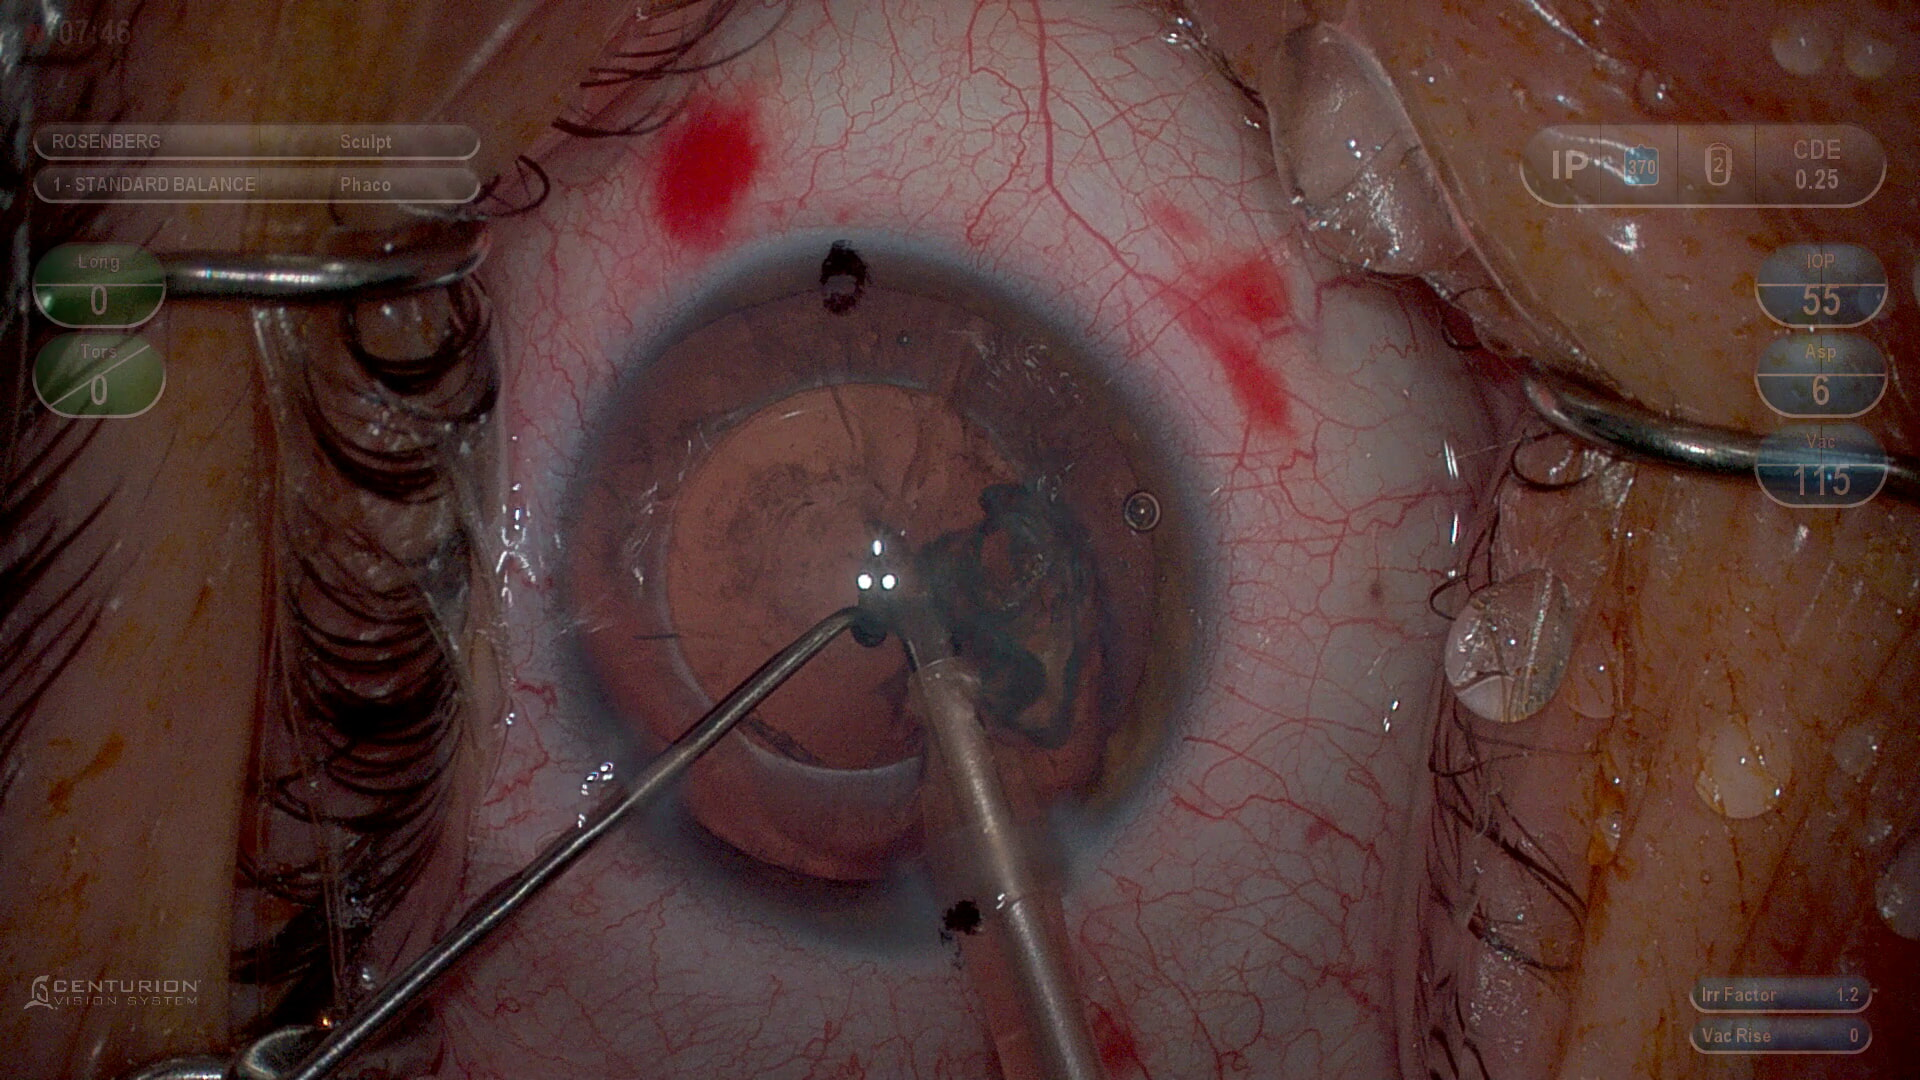iris: (559, 265, 1210, 938)
pupil: (654, 378, 1045, 778)
